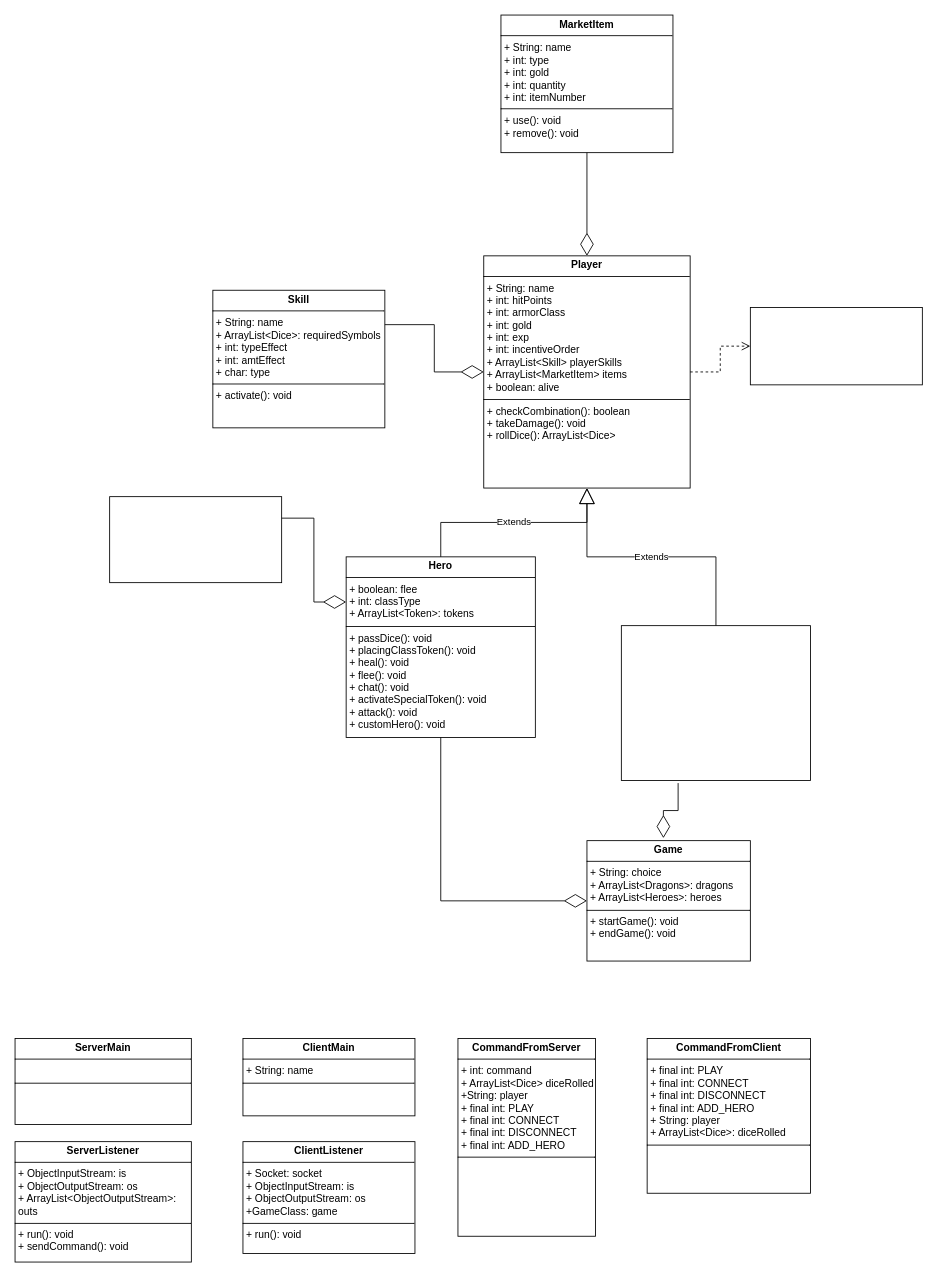
The diagram is 937 pixels wide and 1277 high, and some of its shapes have lost their labels. The centre of each missing label's shape, as x and y in pixels:
"Dice + int[]: diceSymbols + roll(): ArrayList<Dice>" belongs at point (835, 346).
"Dragon + + successHunt(): void + attack(): void + useSpecialAbility(): void" belongs at point (715, 702).
"Token + int: type + applyEffect(): void + removeEffect(): void" belongs at point (195, 539).
